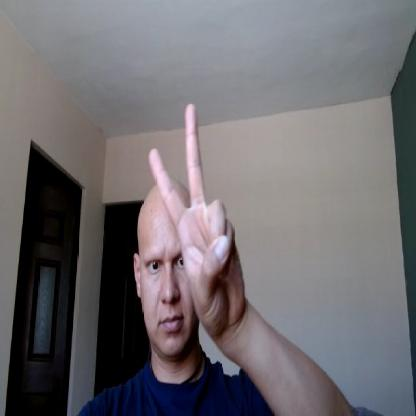V: (148, 102, 247, 334)
